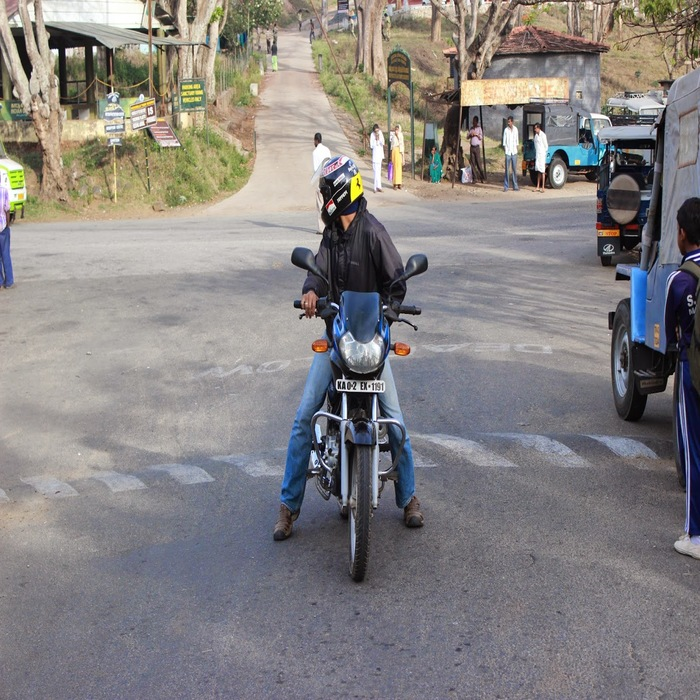h: (315, 156, 367, 227)
n: (334, 377, 387, 396)
